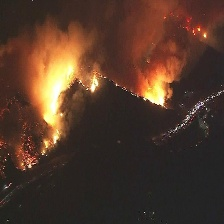fire: (17, 129, 63, 171), (51, 68, 77, 116), (132, 84, 175, 108), (88, 71, 98, 94)
smoke: (12, 12, 213, 84)
